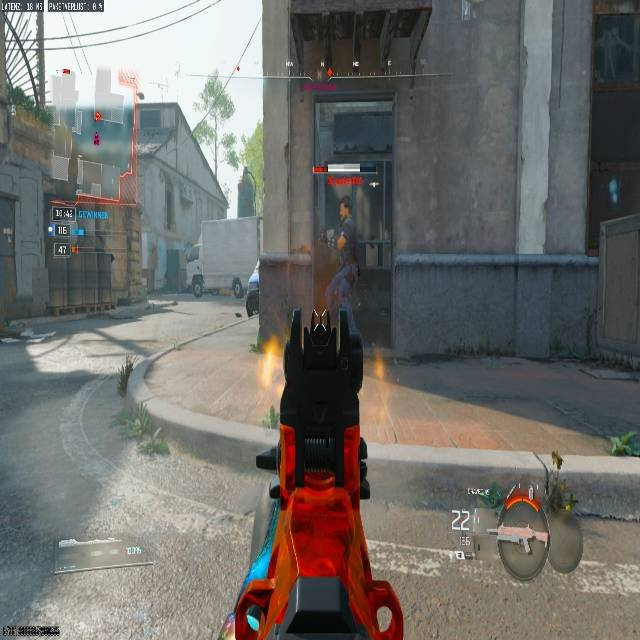head: (339, 194, 351, 213)
player: (326, 194, 359, 311), (333, 196, 355, 242), (191, 272, 204, 297), (232, 276, 241, 297)
